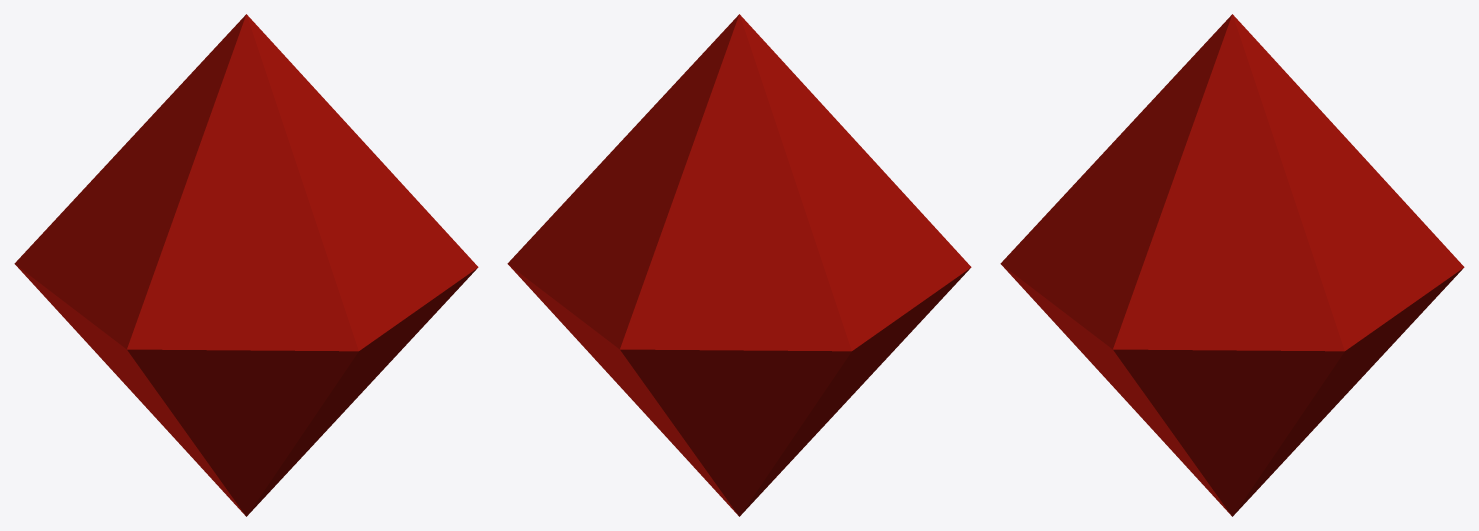
The model's file is Thumbs_Down.glb.
3 views of the same model, side by side, from view 1: azimuth 30°, elevation 25°; view 2: azimuth 150°, elevation 25°; view 3: azimuth 270°, elevation 25° (orthographic).
Visible parts, largest first — view 1: Object_120.002; view 2: Object_120.002; view 3: Object_120.002.
Boxes of the visible parts, <box> form: Object_120.002: <box>14,14,478,516</box>; Object_120.002: <box>507,14,971,516</box>; Object_120.002: <box>1000,14,1464,516</box>.
Size of the model in its own units: 12 by 16.4 by 13.71.
